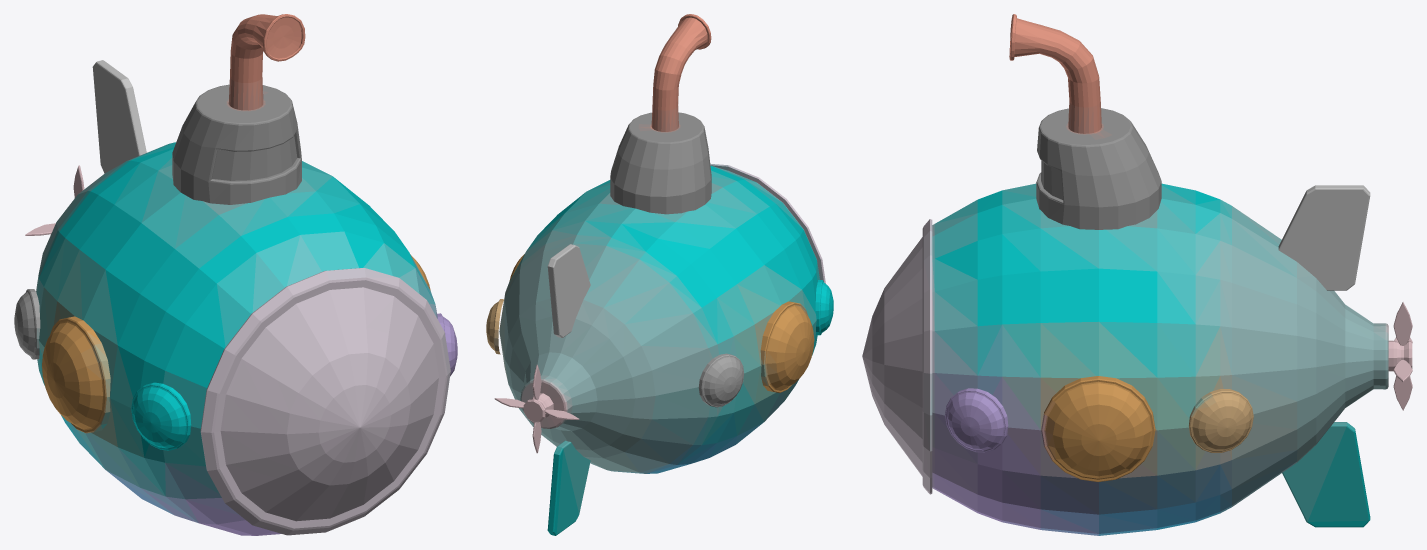
The picture shows the model from 3 angles, left to right: view 1: azimuth 30°, elevation 25°; view 2: azimuth 150°, elevation 25°; view 3: azimuth 270°, elevation 25°; orthographic projection. The views are drawn at different scales.
Parts seen in each view (by area): view 1: world; view 2: world; view 3: world.
Part boxes in pixels (x1,y1,x2,y2): world: [14, 14, 457, 535]; world: [486, 14, 833, 535]; world: [862, 14, 1412, 535].
Size of the model in its own units: 0.7203 by 1 by 0.9759.
